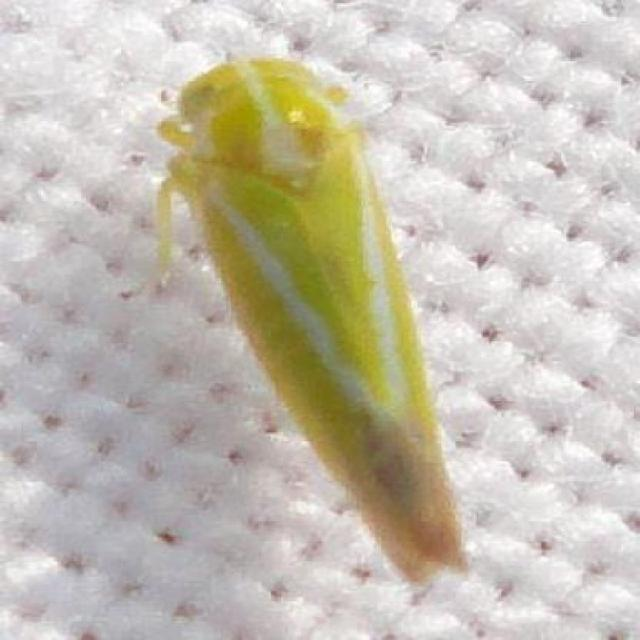green-leafhopper: (151, 57, 466, 581)
